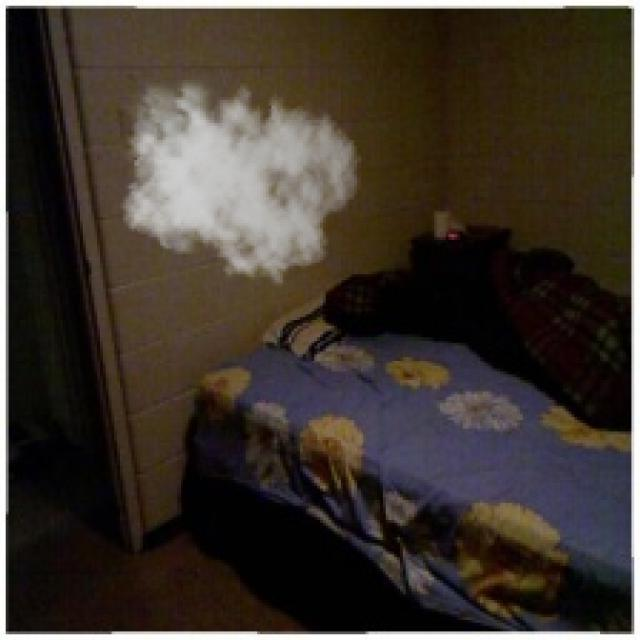Smoke: (114, 68, 360, 286)
